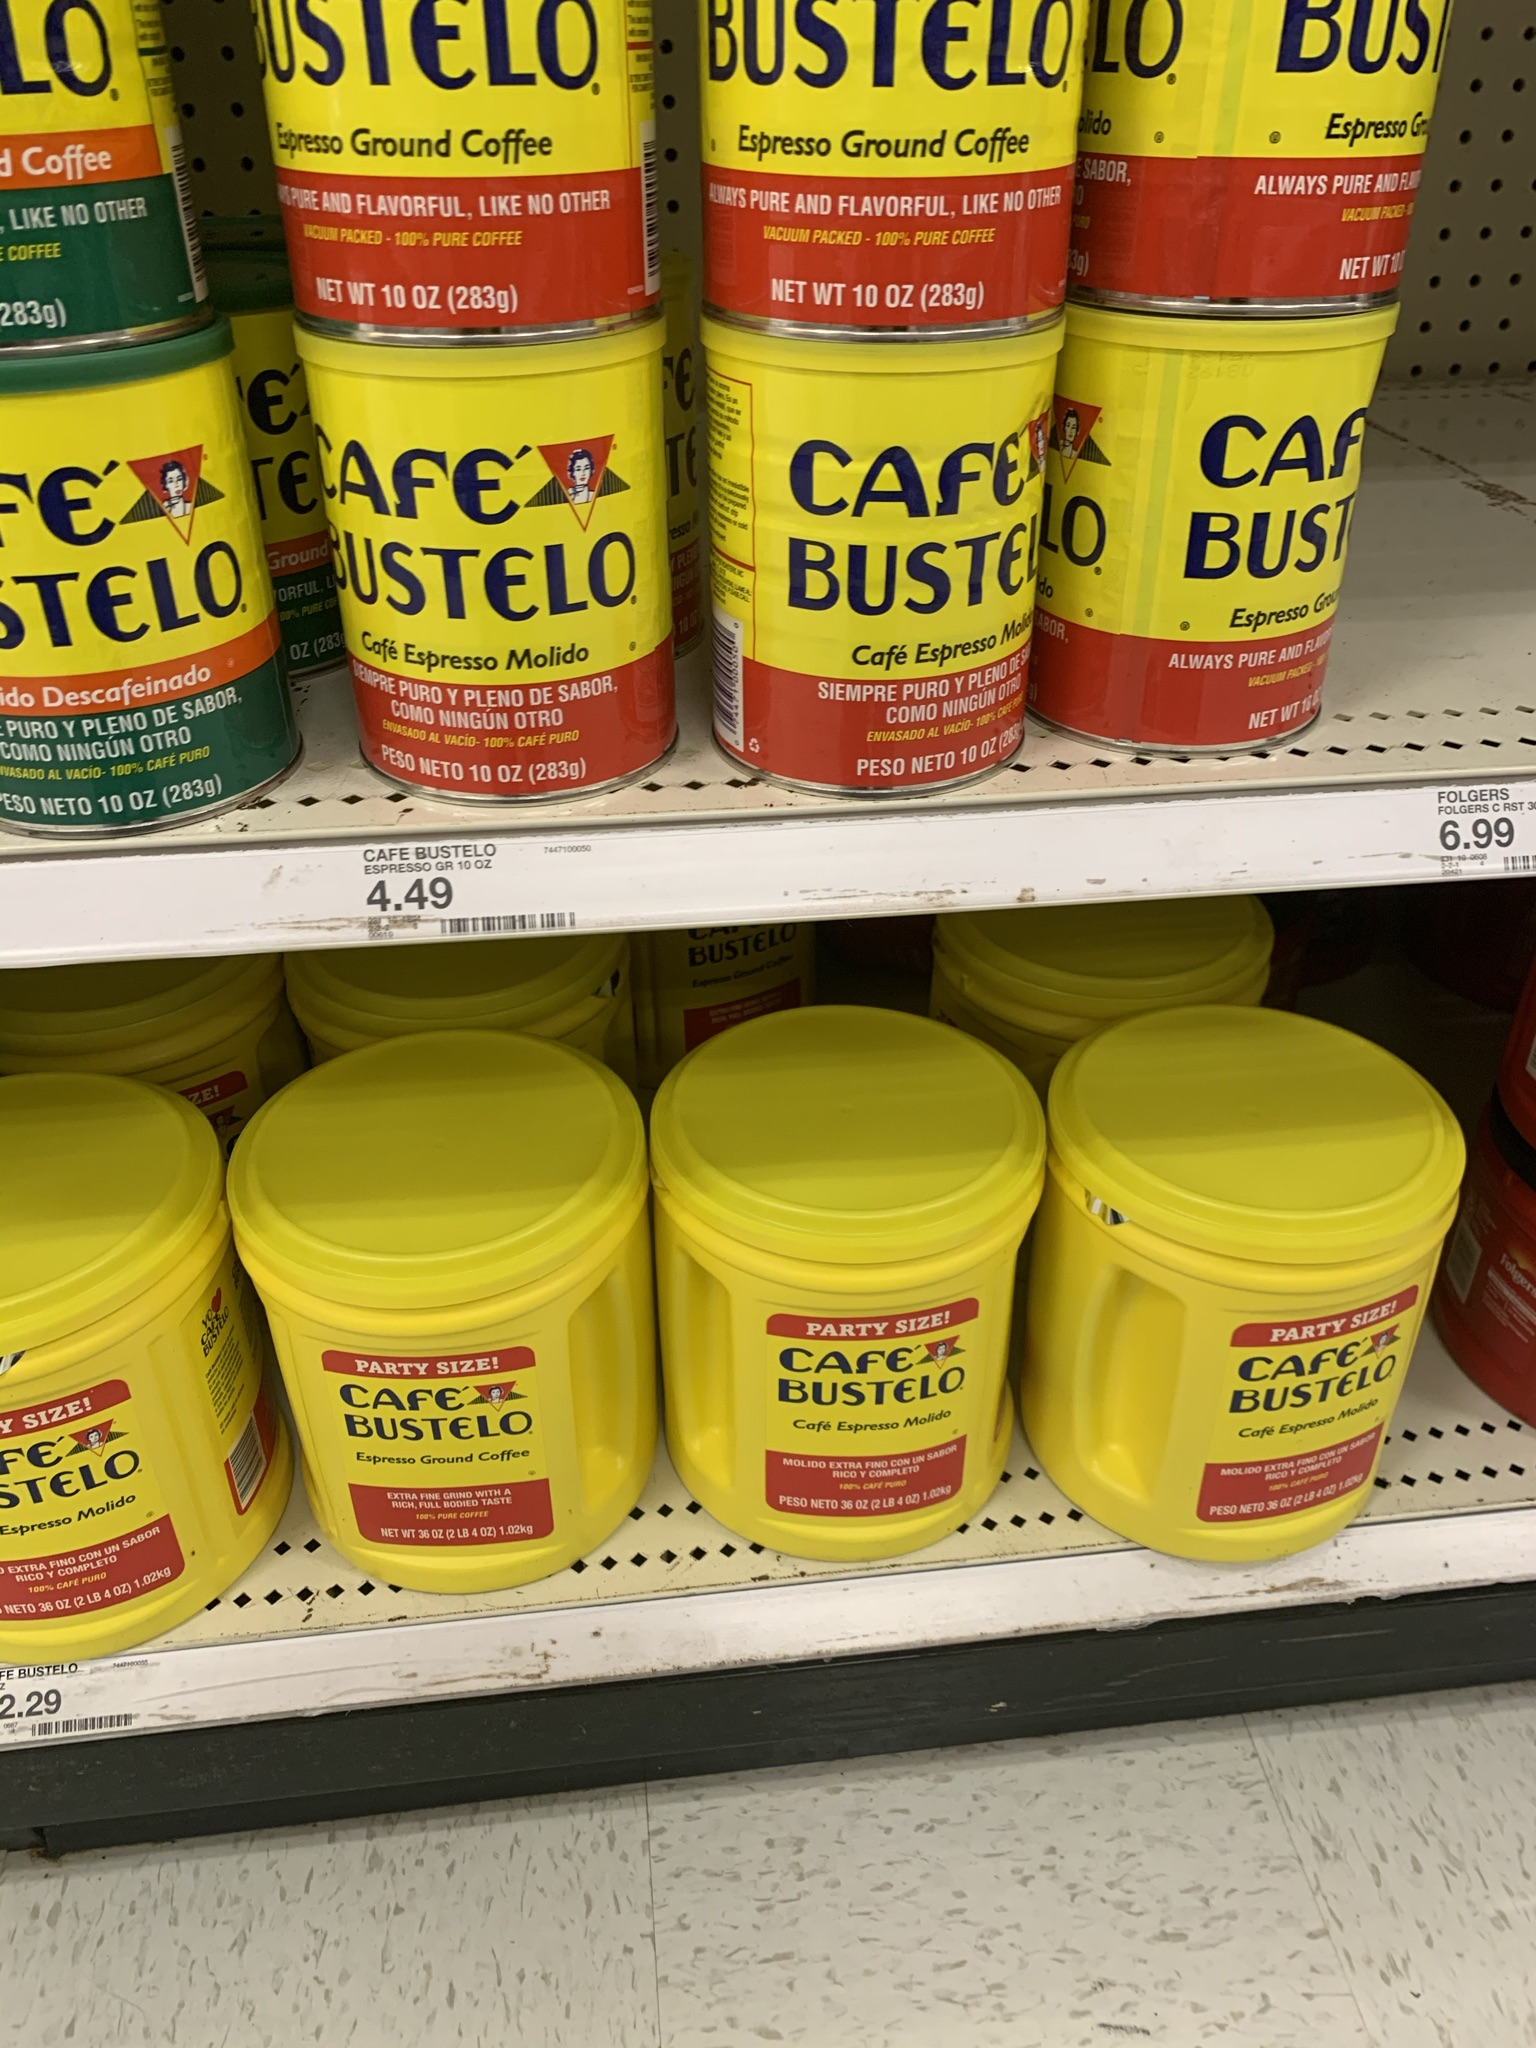can: (758, 329, 1058, 787), (365, 335, 652, 792), (281, 2, 658, 305), (705, 2, 1070, 302), (2, 360, 237, 808), (1079, 323, 1320, 732), (1086, 2, 1391, 297)
